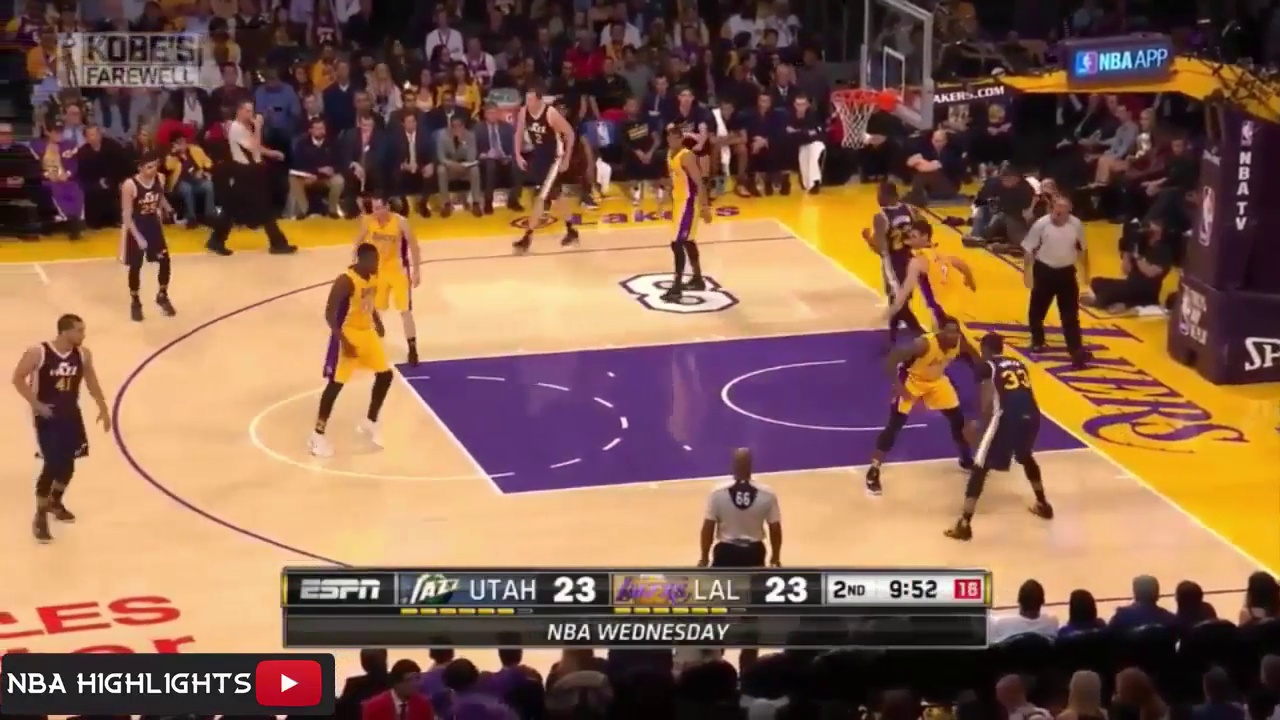jazz: (16, 309, 108, 536), (966, 328, 1049, 534), (510, 92, 587, 251), (114, 157, 186, 311), (864, 181, 915, 334)
lakers: (870, 323, 981, 482), (314, 243, 395, 445), (901, 226, 984, 365), (363, 203, 428, 365), (661, 131, 714, 302)
